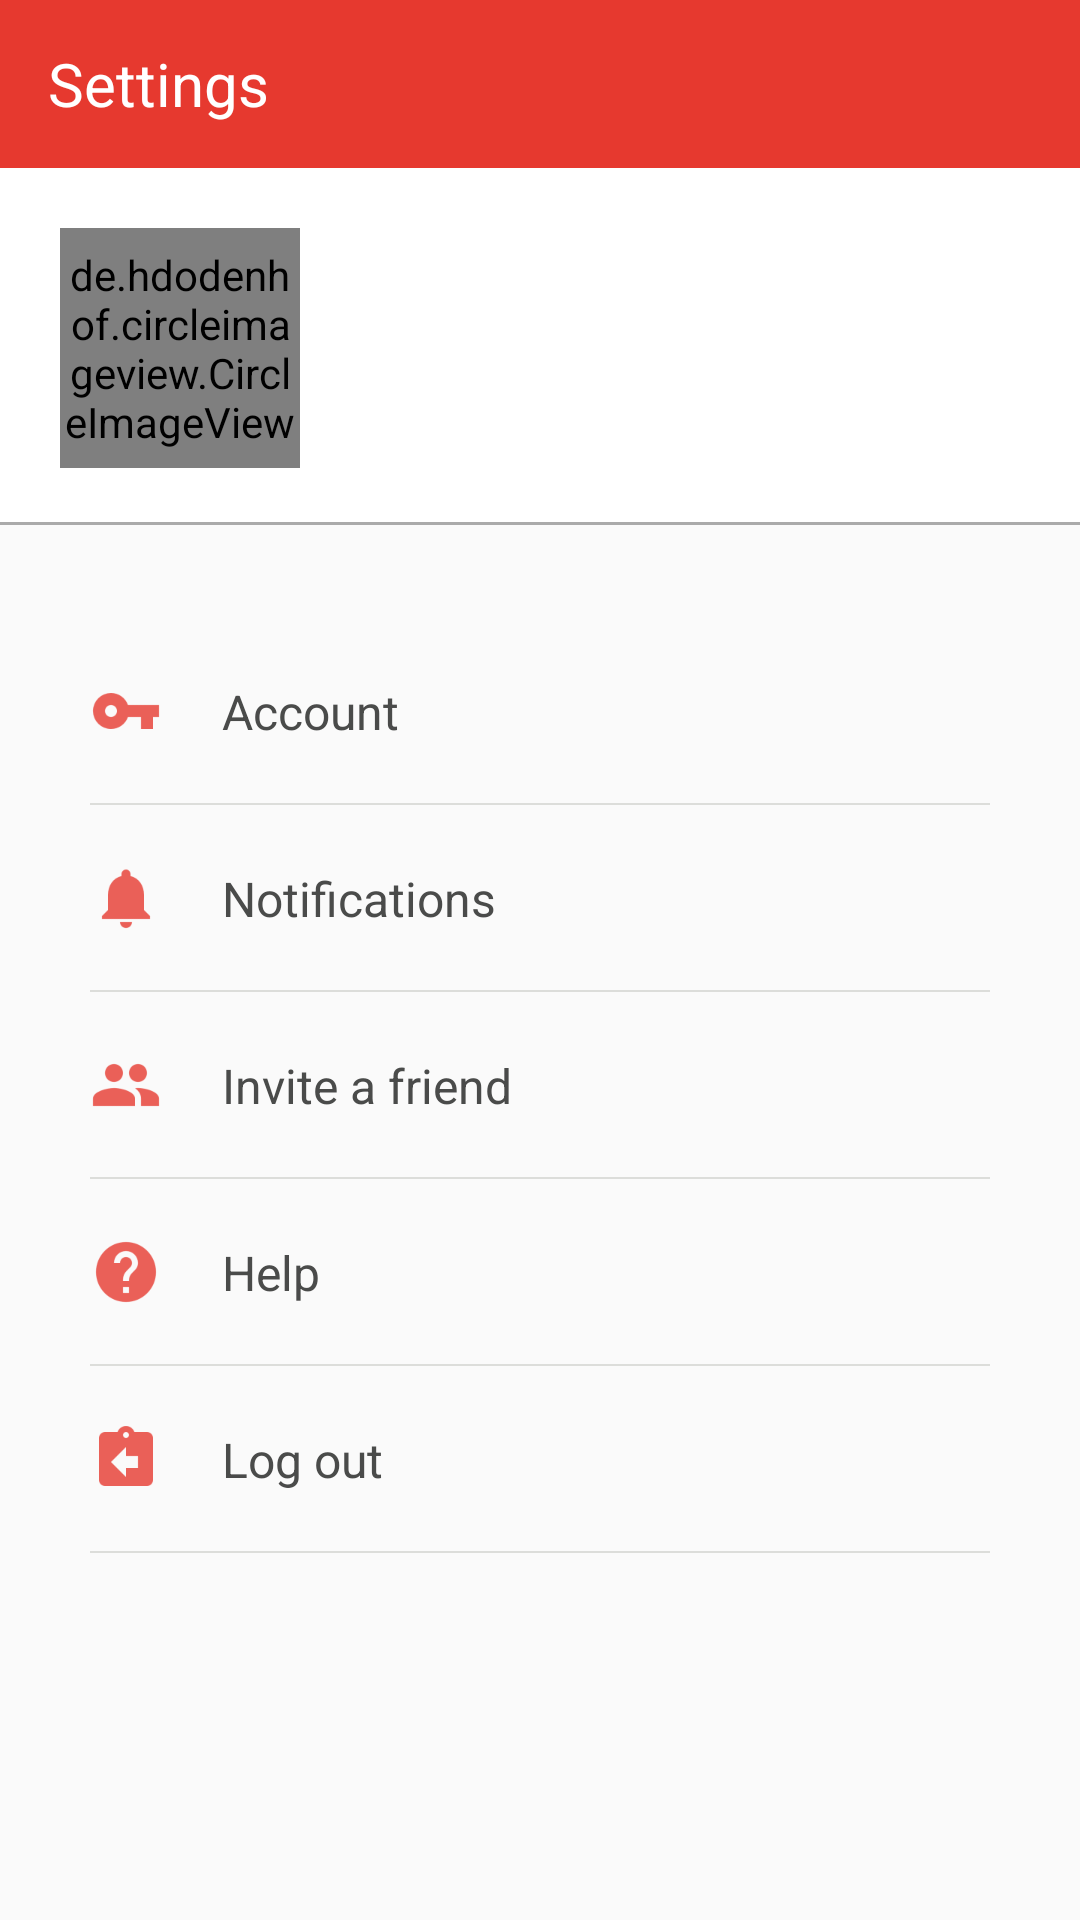

Named icons in this screenshot (1080px x 1920px) and their bounding boxes, [left=x1, top=y1, right=x2, bottom=y2]:
security: [left=93, top=693, right=159, bottom=729]
